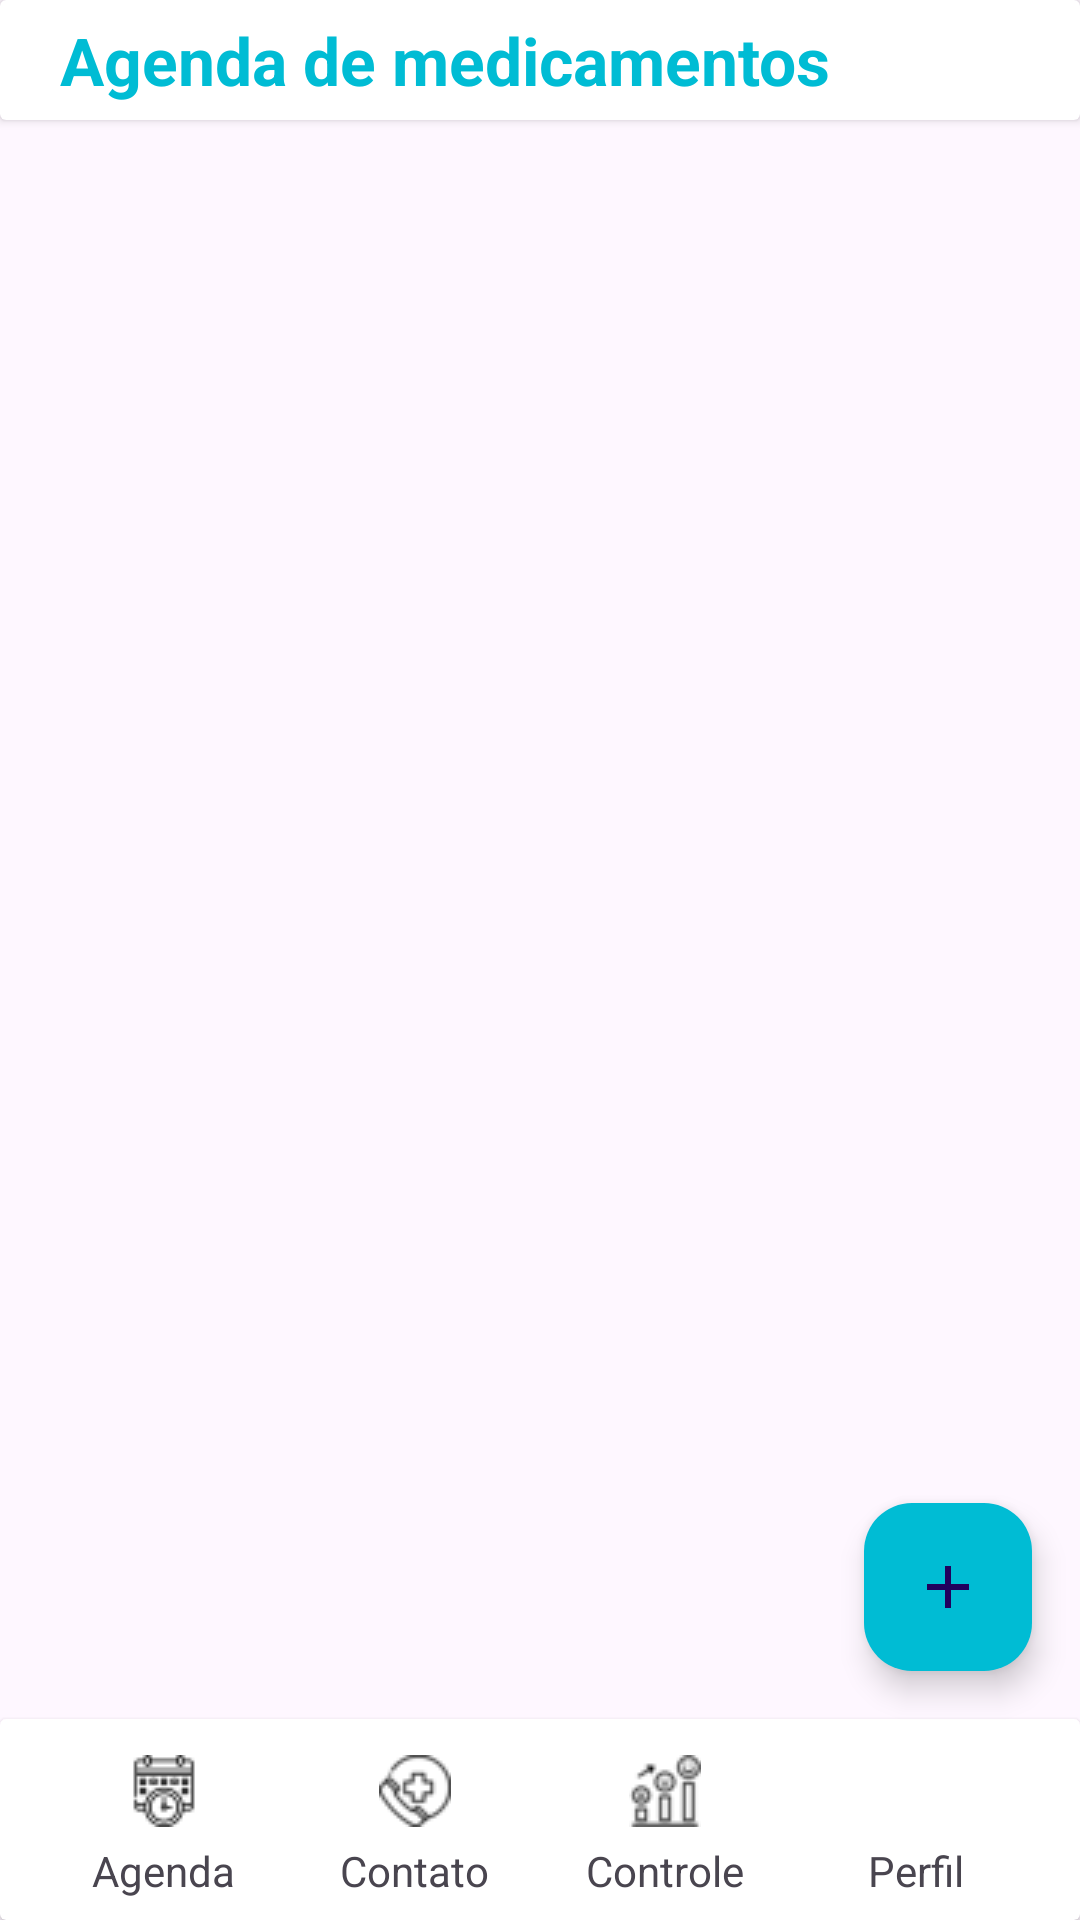

Locate icon controls on the screen. Image size 1080 x 1920, boxes as box(x1, y1, x2, y2).
Adicionar palavra: box(864, 1503, 1032, 1671)
emergencia: box(379, 1755, 451, 1827)
